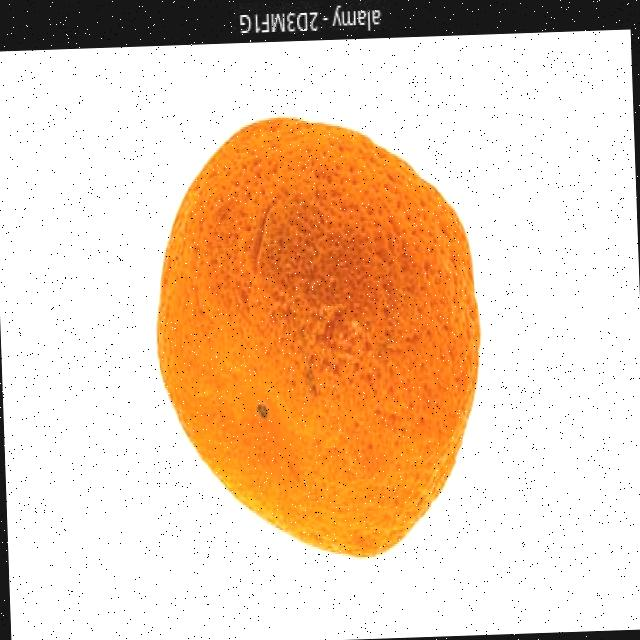overripe: (144, 108, 495, 576)
